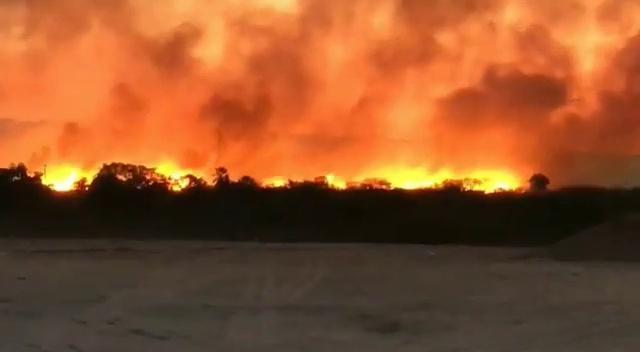fire: (385, 169, 517, 189), (45, 168, 83, 192)
